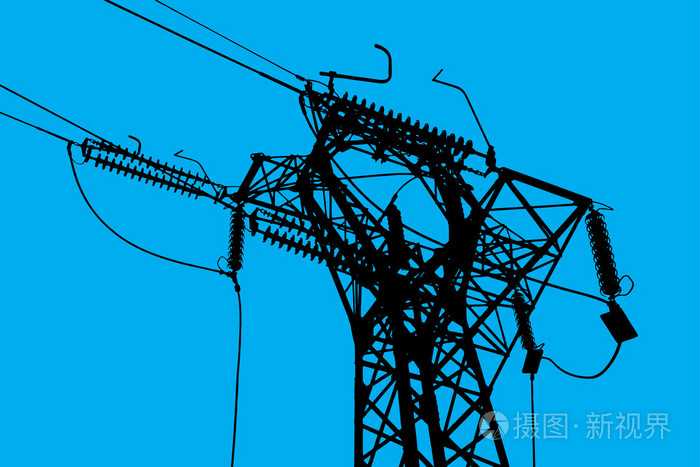insulator: (341, 88, 477, 158), (85, 139, 208, 200), (264, 207, 359, 274), (585, 210, 625, 300), (511, 291, 539, 351), (224, 204, 247, 274)
